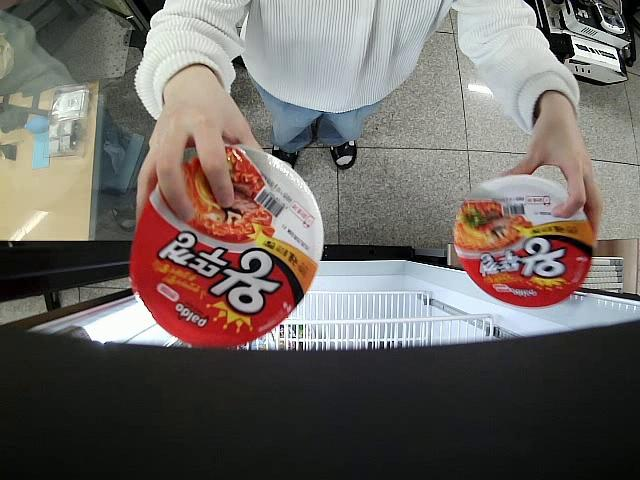00_hand: (135, 93, 265, 223), (503, 99, 604, 241)
10_wangTtukkeong: (131, 145, 324, 348), (455, 173, 596, 310)
